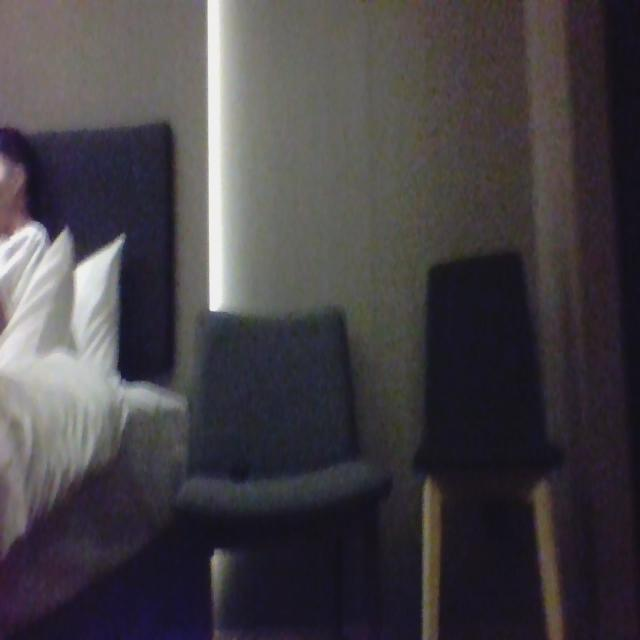empty: (181, 314, 370, 502), (416, 255, 544, 465)
